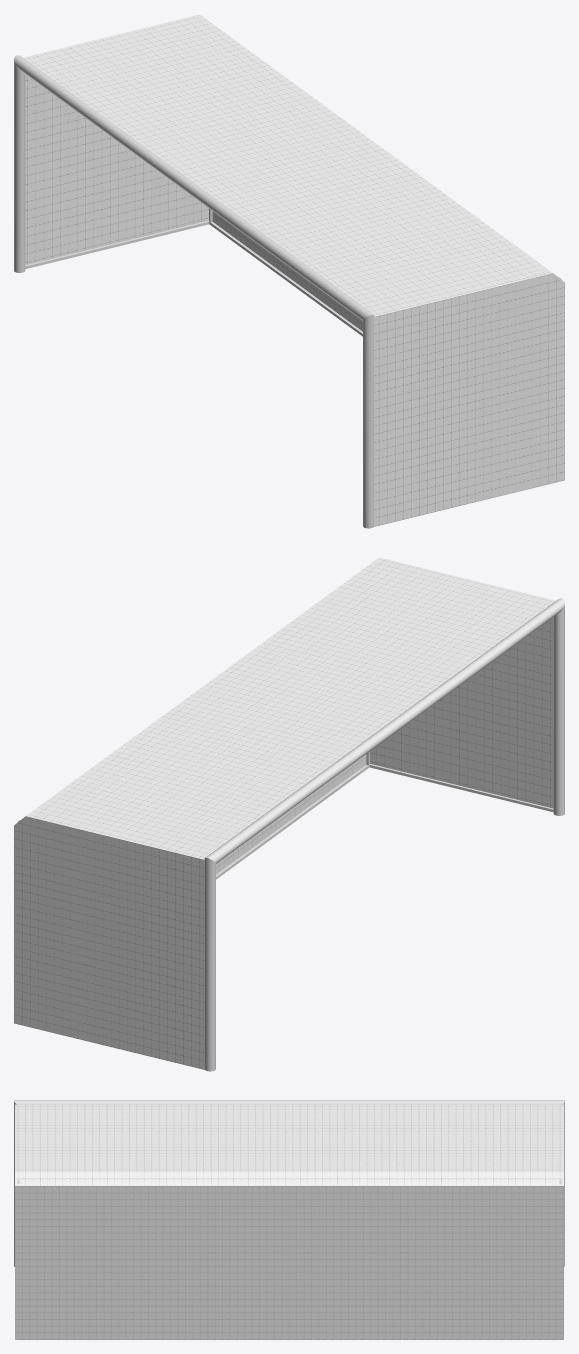
Rendered from Trave02.FBX.
3 renders of one model, top to bottom at view 1: azimuth 30°, elevation 25°; view 2: azimuth 150°, elevation 25°; view 3: azimuth 270°, elevation 25°, orthographic. The views are drawn at different scales.
Visible parts, largest first — view 1: Rede02, Trave02, Arco02; view 2: Rede02, Trave02, Arco02; view 3: Rede02, Trave02.
Boxes of the visible parts, x1,y1,x2,y2 form: Rede02: (23,14,564,526); Trave02: (14,55,374,528); Arco02: (25,208,560,336); Rede02: (14,557,555,1069); Trave02: (204,598,564,1071); Arco02: (18,751,553,879); Rede02: (15,1104,563,1339); Trave02: (14,1100,564,1266).
Bounding box in the file's own units: 2.4 × 2.47 × 7.42.
